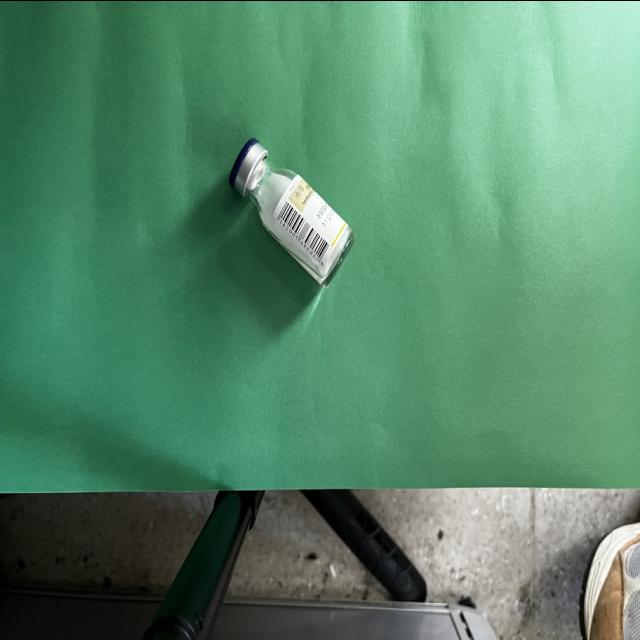Vials: (228, 137, 356, 288)
